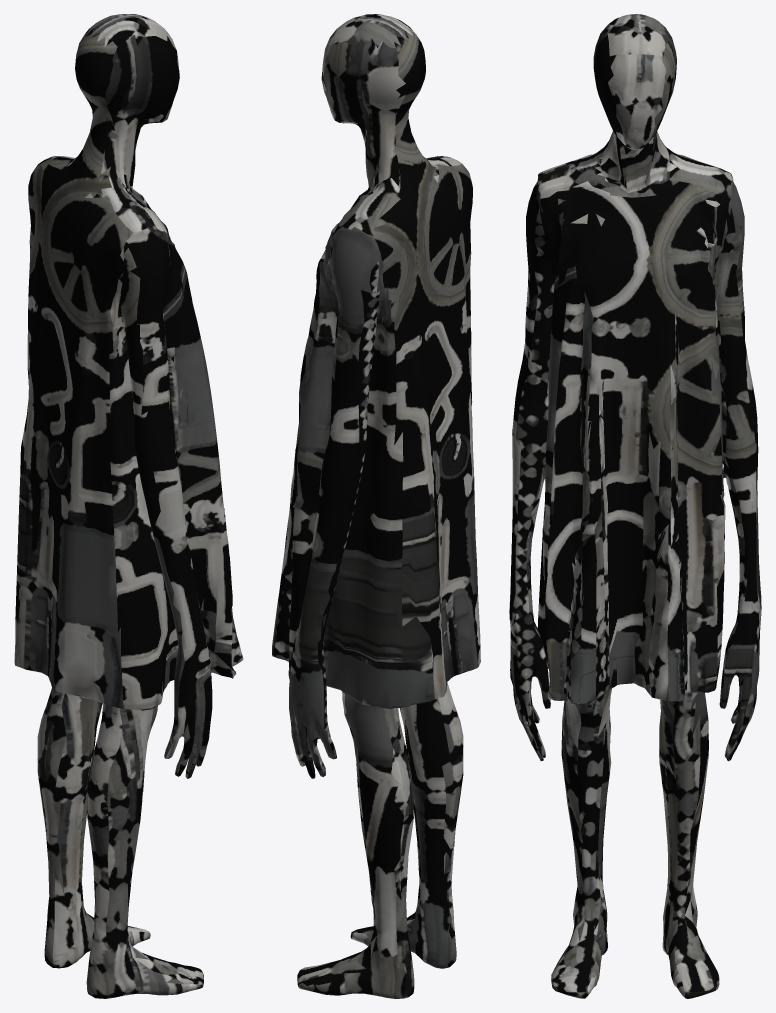
3 renders of one model, left to right at view 1: azimuth 30°, elevation 25°; view 2: azimuth 150°, elevation 25°; view 3: azimuth 270°, elevation 25°, orthographic.
Visible parts, largest first — view 1: repaired; view 2: repaired; view 3: repaired.
Boxes of the visible parts, left/top/right/bottom form: repaired: left=14, top=14, right=243, bottom=998; repaired: left=272, top=14, right=480, bottom=998; repaired: left=509, top=14, right=761, bottom=998.
Size of the model in its own units: 0.1931 by 0.9995 by 0.2393.
